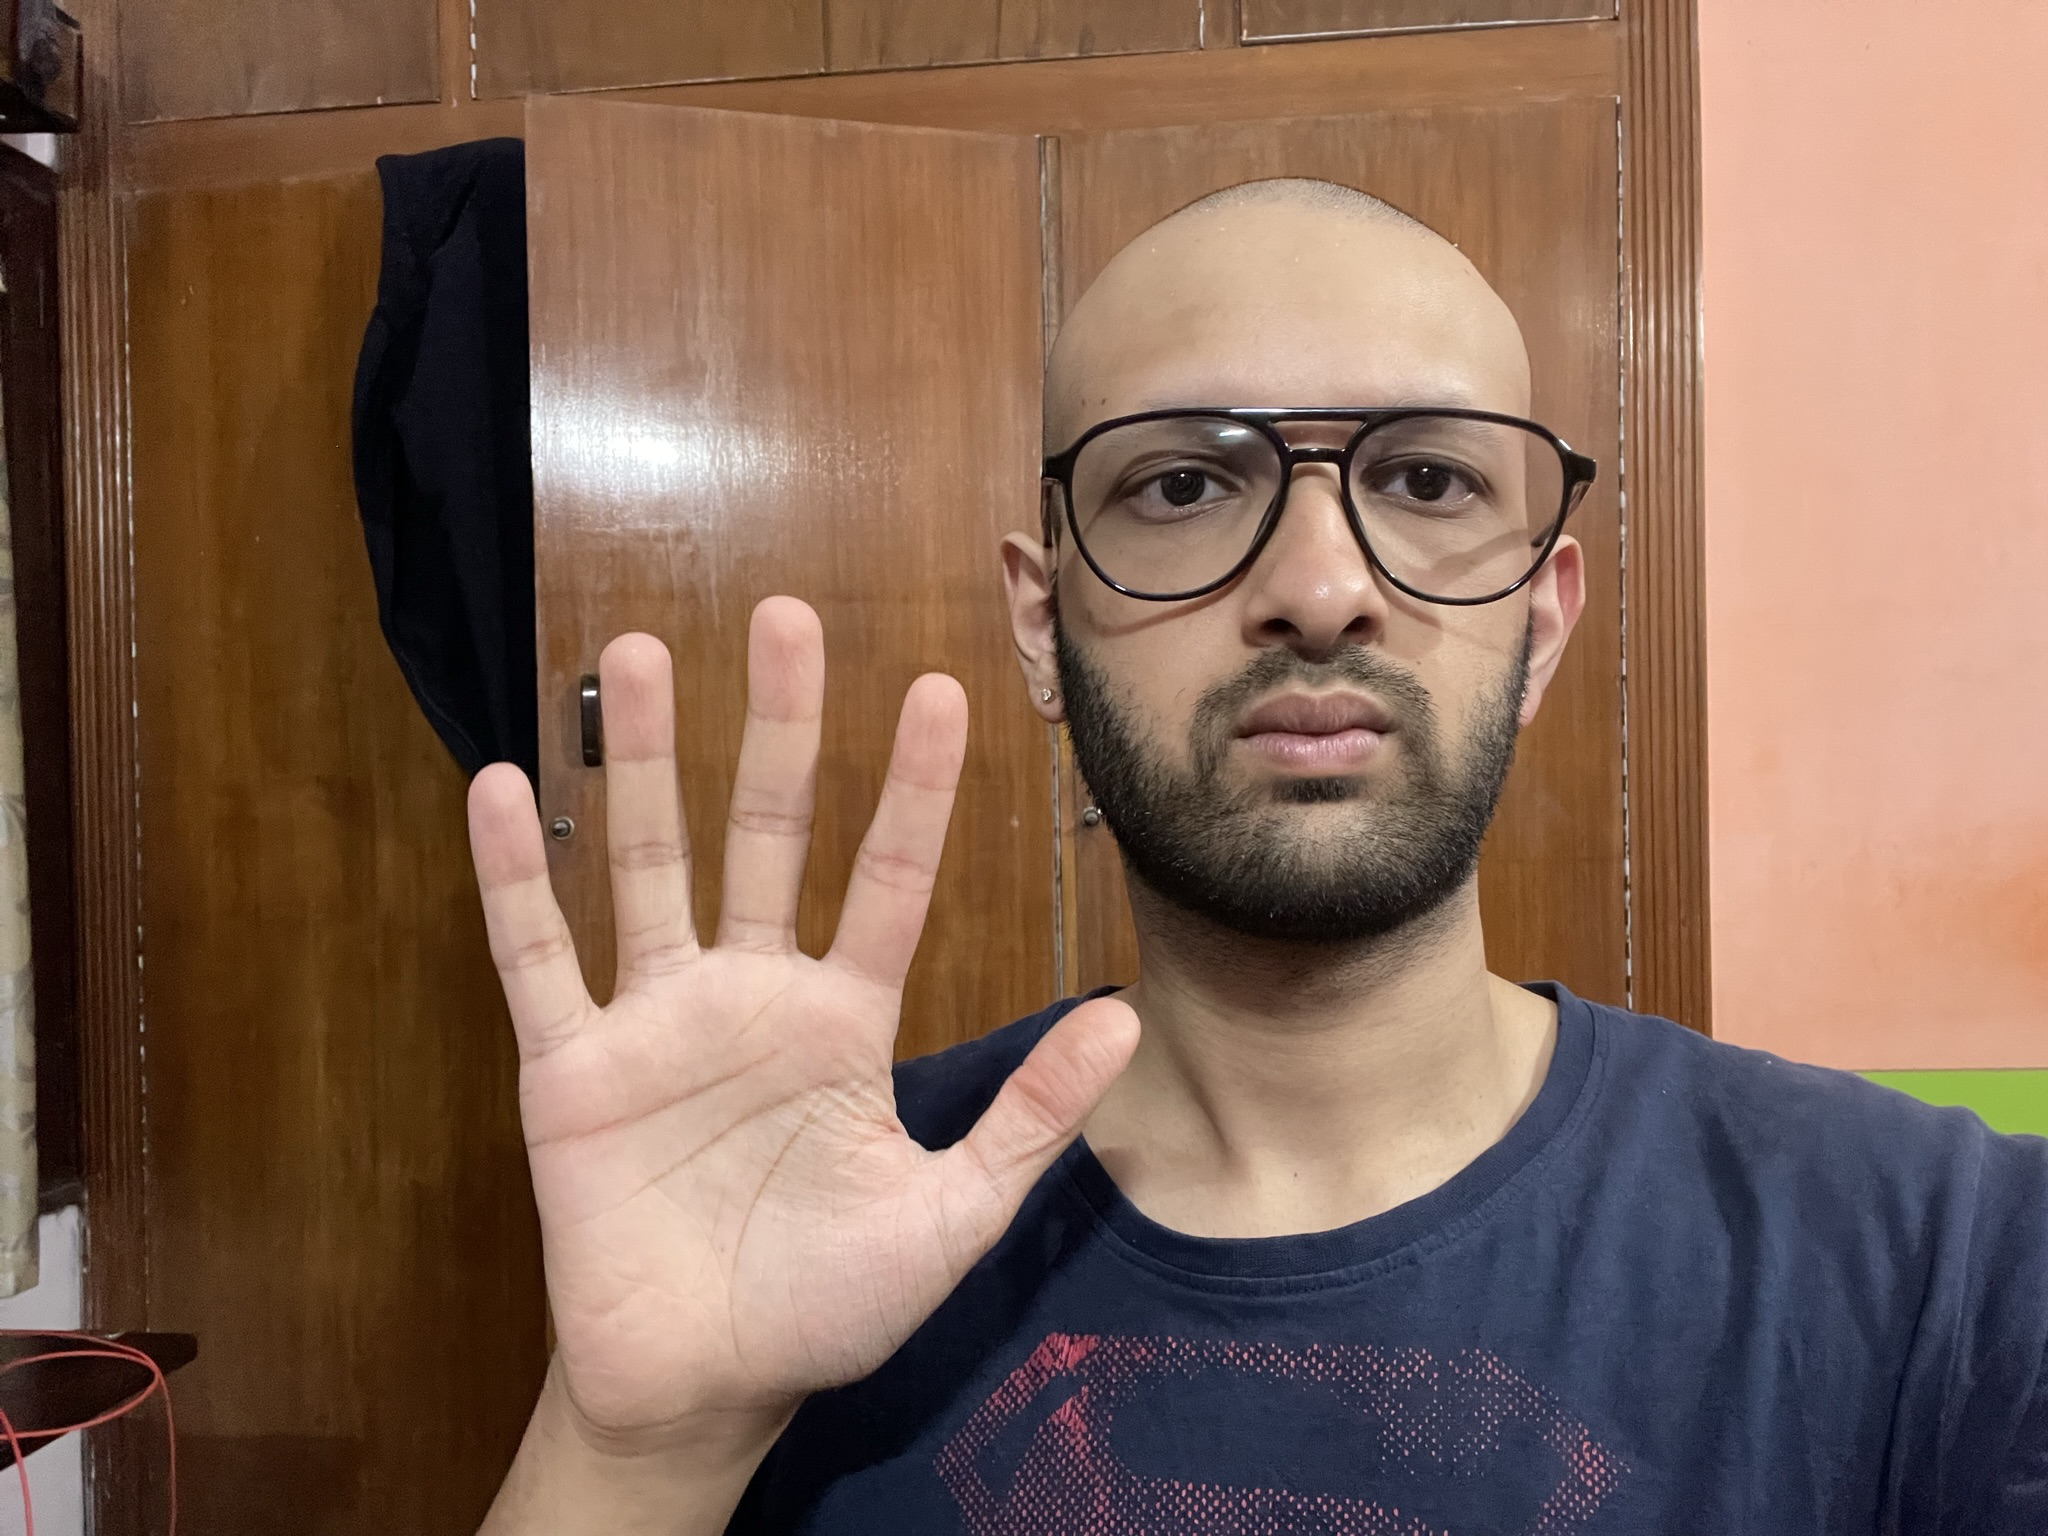Hello: (450, 578, 1150, 1428)
